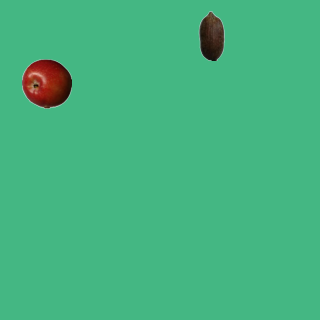Apple Braeburn: (21, 58, 71, 108)
Nut Pecan: (186, 10, 236, 60)
